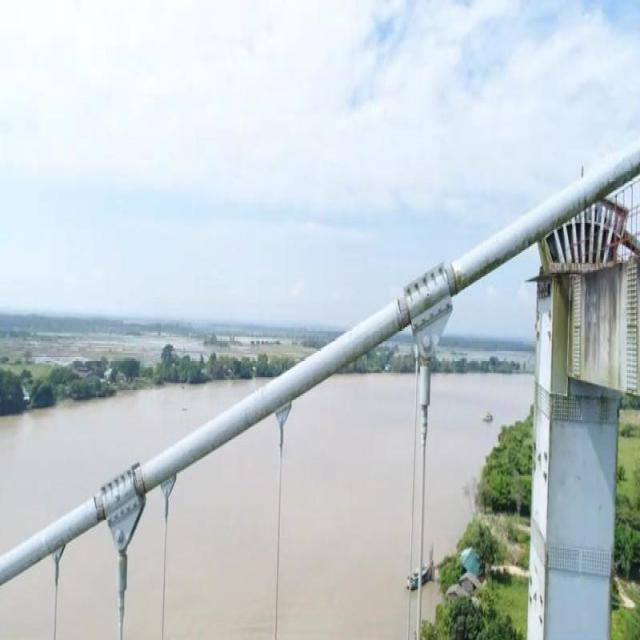Slippage: (445, 263, 458, 295), (398, 296, 410, 328), (93, 493, 106, 521), (134, 466, 146, 496)
